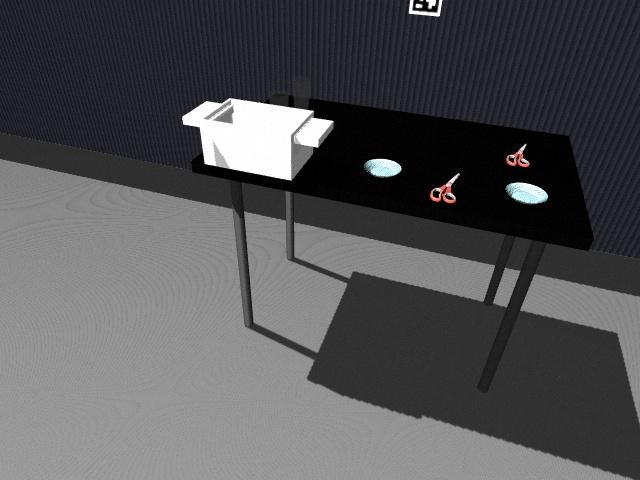cup: (291, 76, 311, 108), (267, 93, 291, 108)
plate: (505, 182, 549, 204), (362, 158, 402, 178)
scissors: (431, 166, 466, 209), (506, 135, 534, 173)
